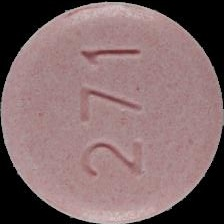0615-4515: (0, 0, 224, 224)
